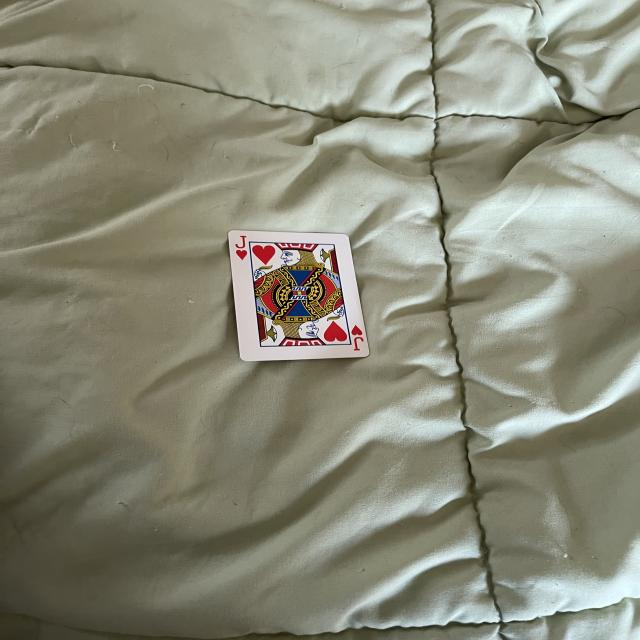Jack of hearts: (229, 234, 372, 363)
